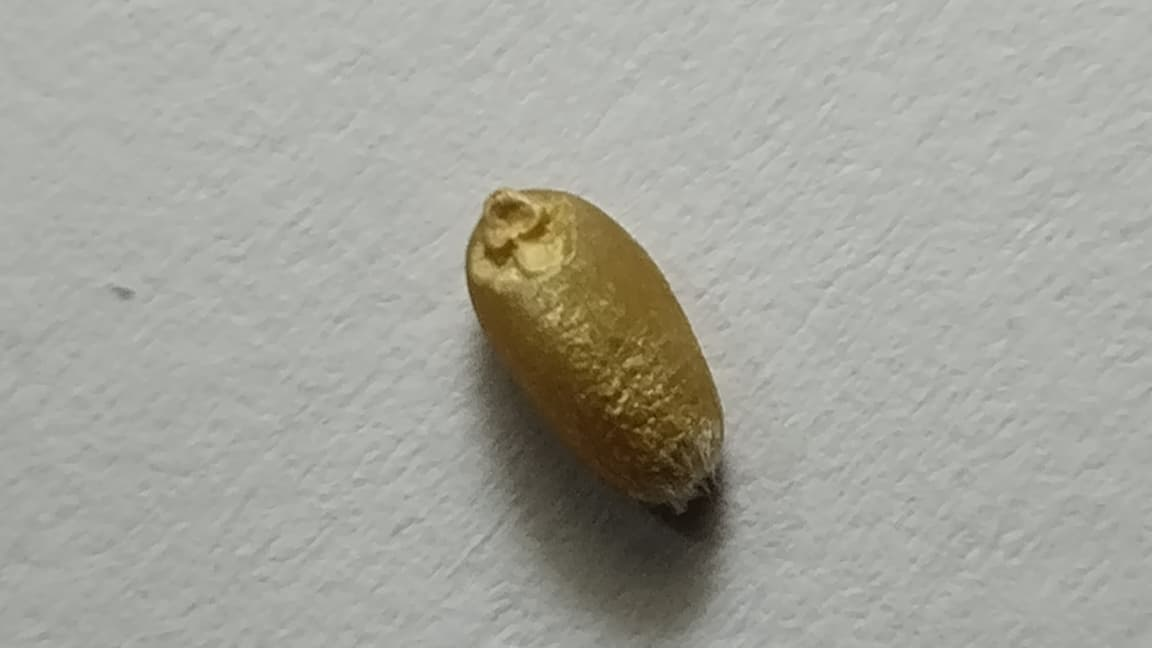healthy: (467, 189, 721, 508)
